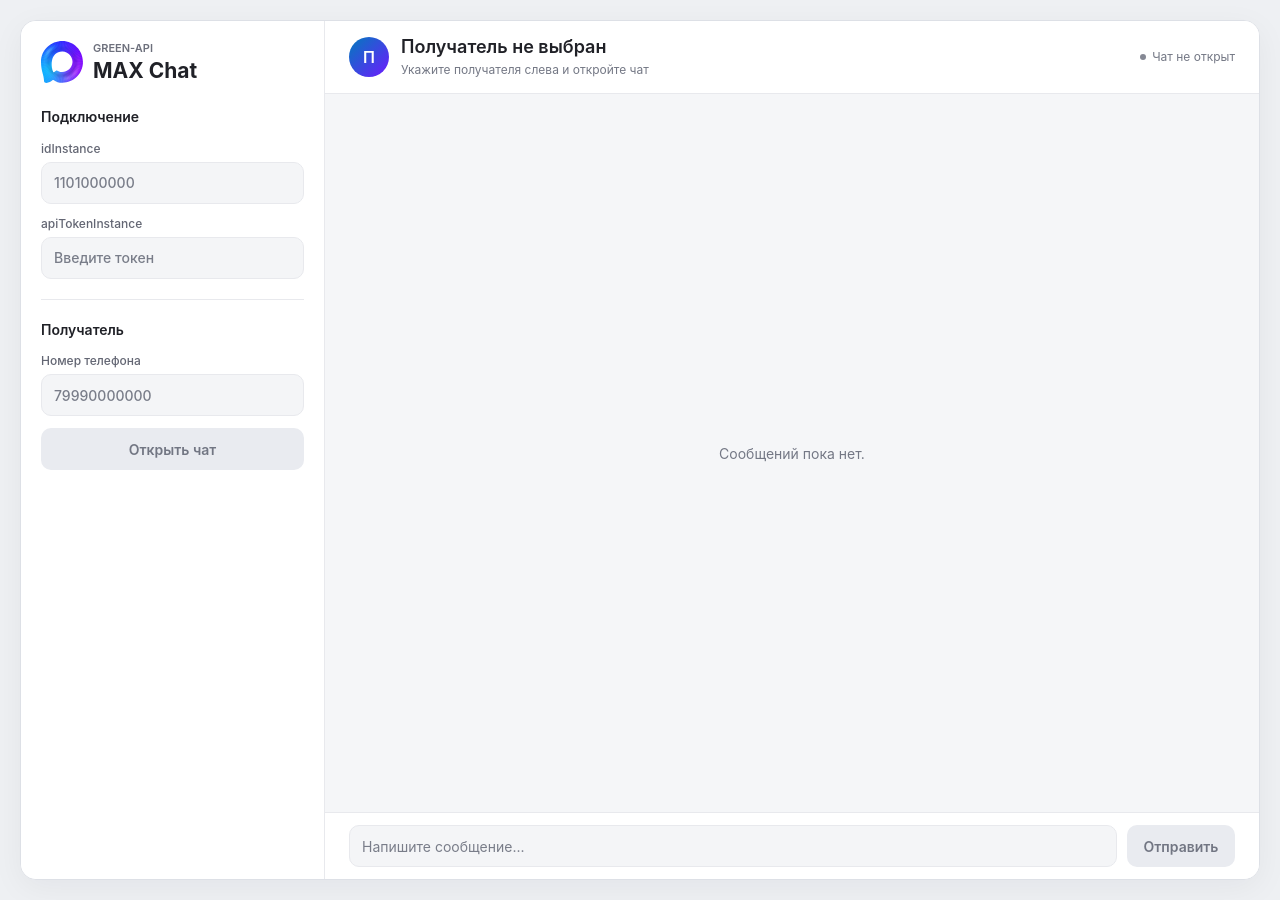
Scenario: opens a chat and starts receiving only after CheckAccount succeeds
Type "test-instance" into the field labelled "idInstance" at (172, 183), box x1=41 y1=162 x2=304 y2=204
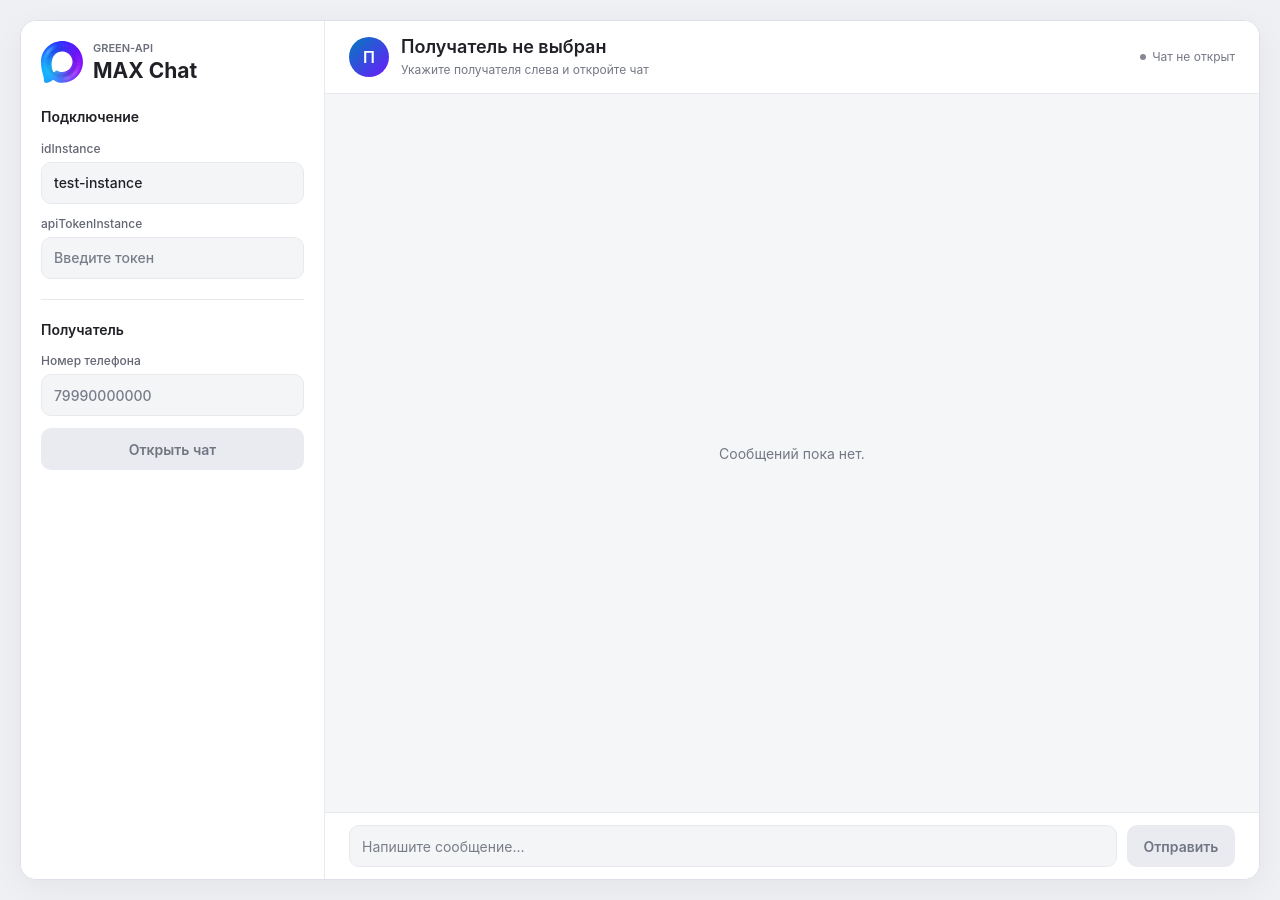
Type "test-token" into the password field labelled "apiTokenInstance" at (172, 258), box x1=41 y1=237 x2=304 y2=279
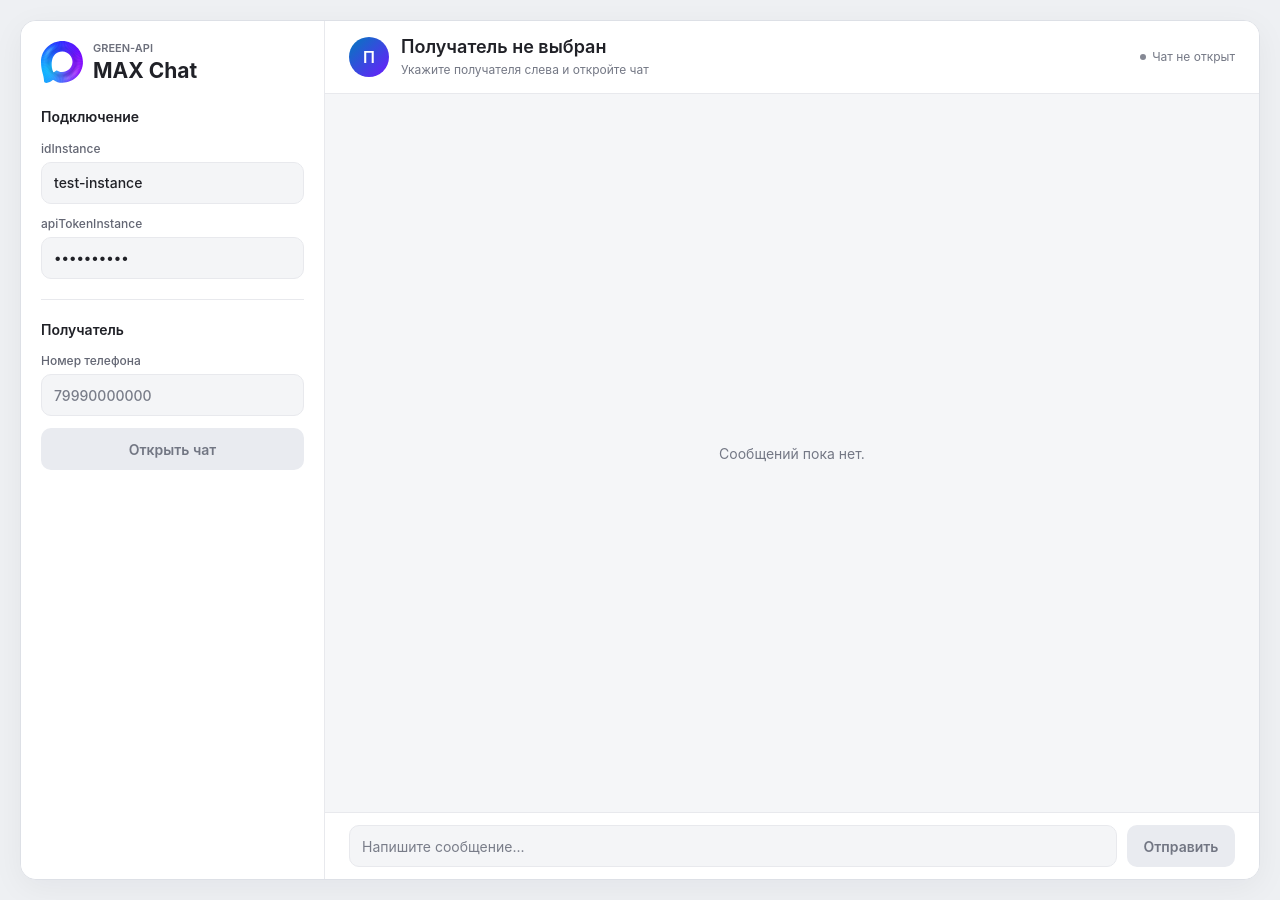
Type "70000000000" into the field labelled "Номер телефона" at (172, 395), box x1=41 y1=374 x2=304 y2=416
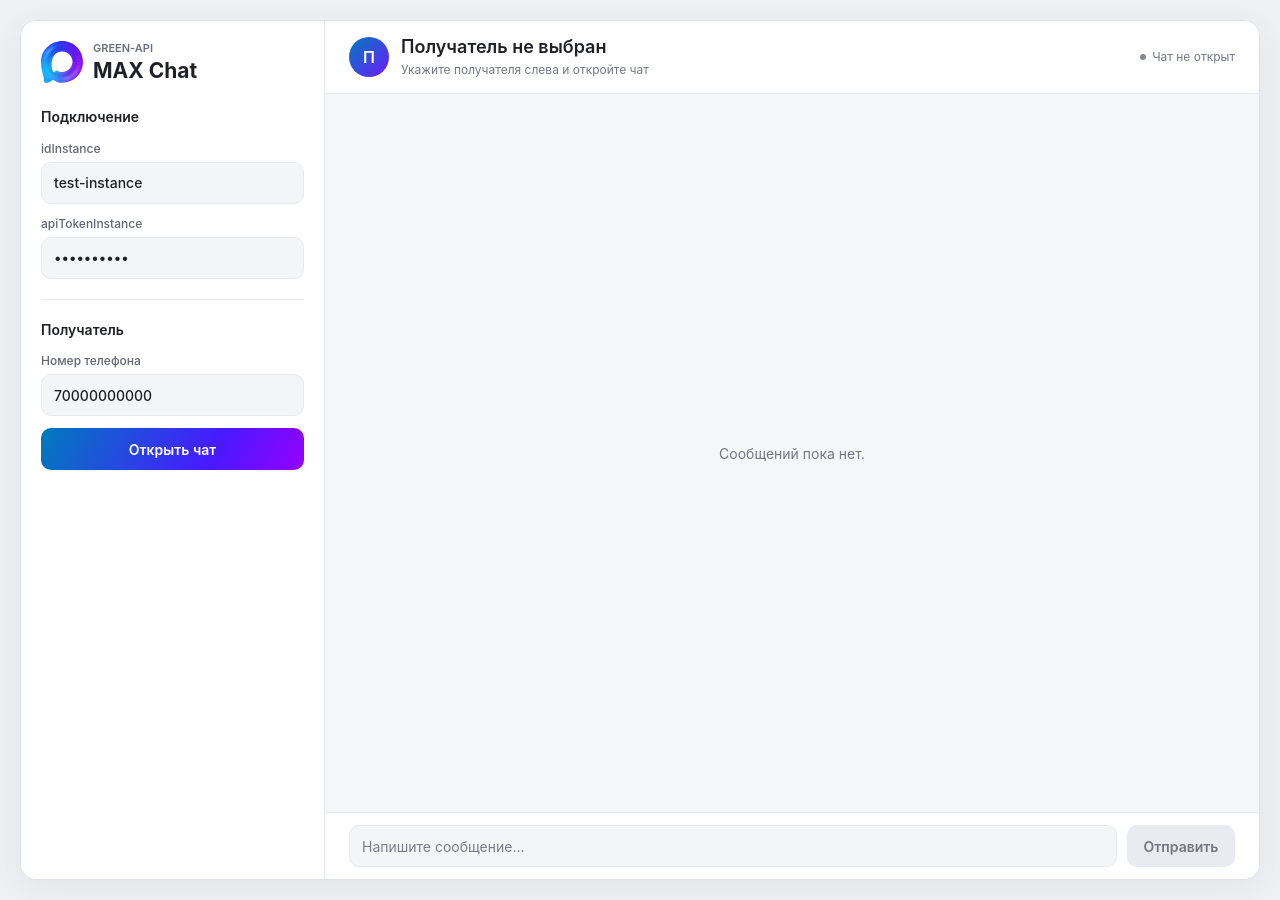
Click the button "Открыть чат" at (172, 449), box x1=41 y1=428 x2=304 y2=470
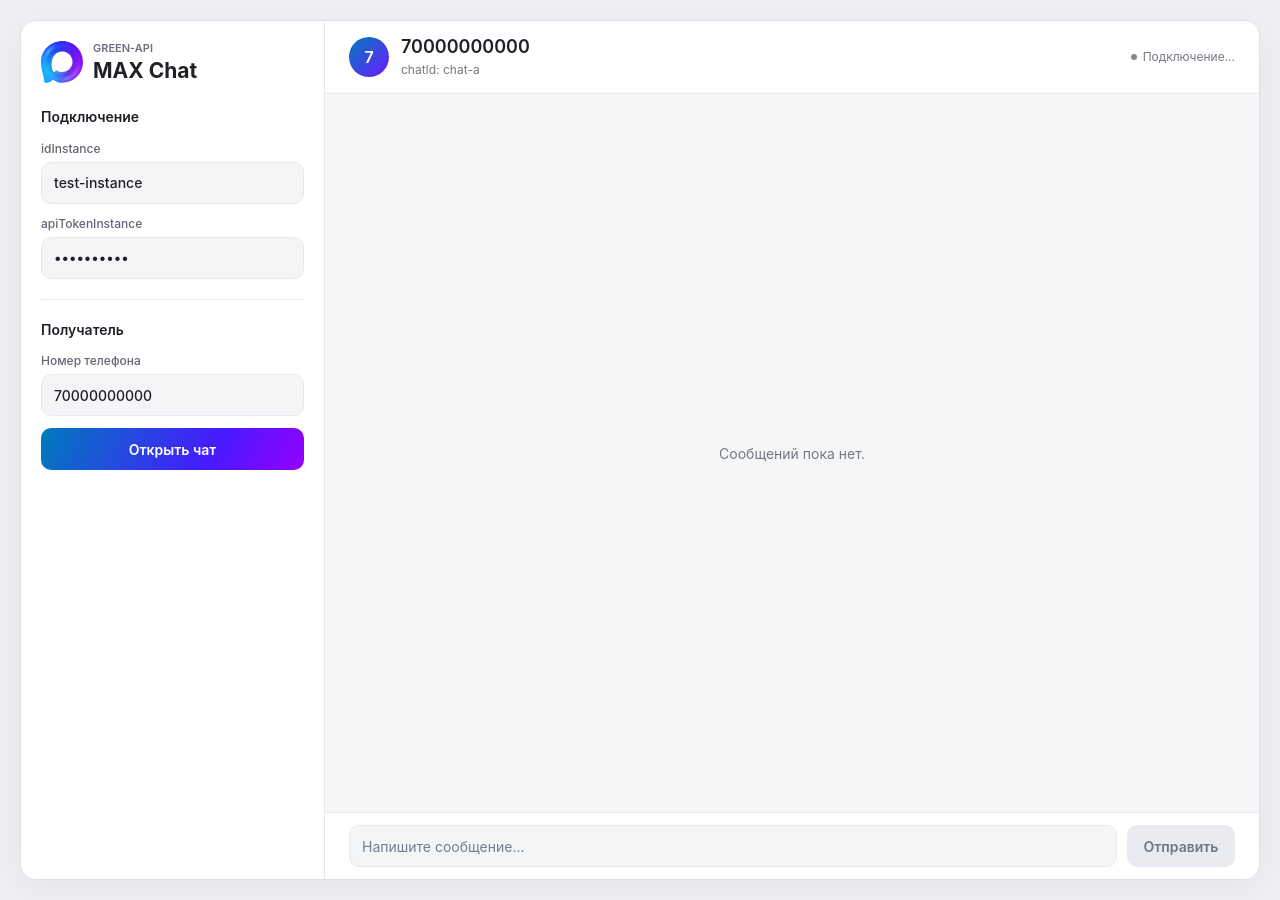
Expected: the field with placeholder "Напишите сообщение..." is enabled, x1=349 y1=825 x2=1117 y2=867
Expected: the heading "70000000000" is shown, x1=401 y1=36 x2=530 y2=57
